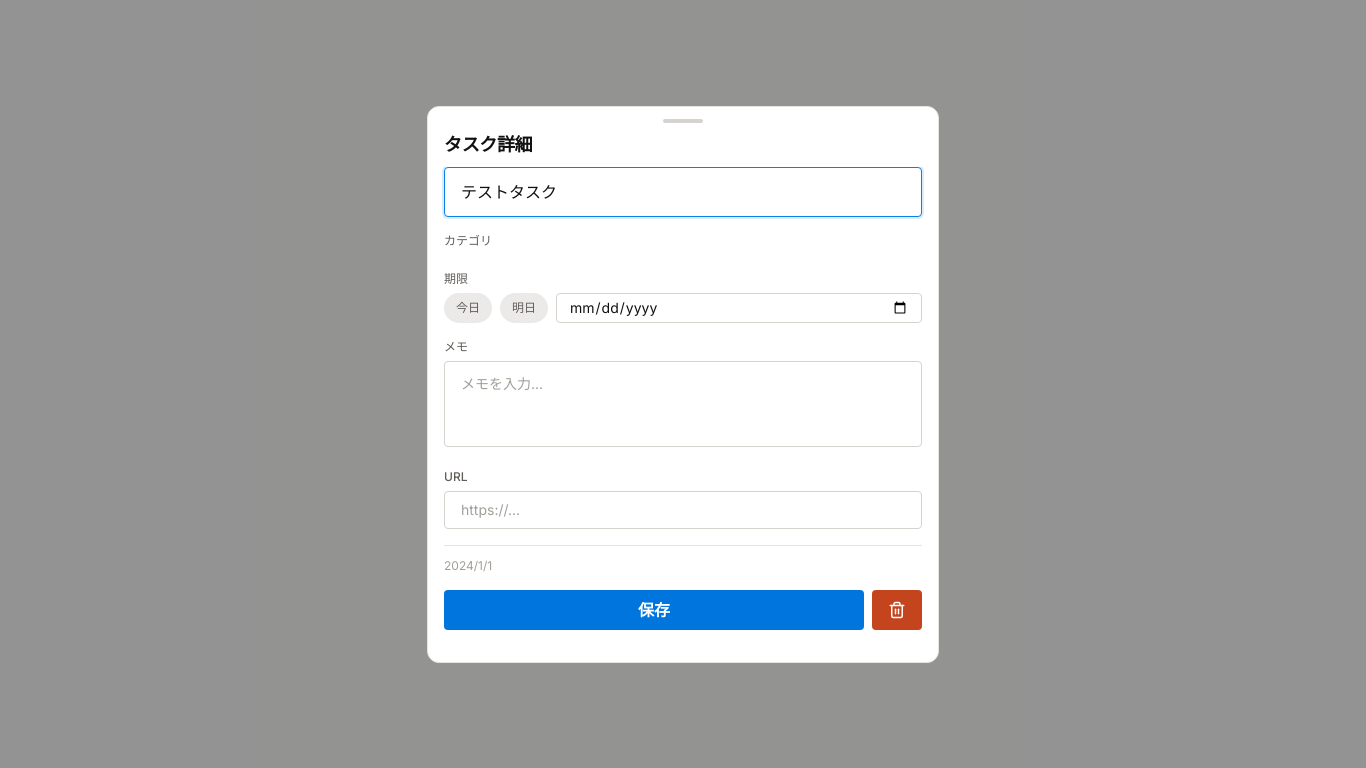
Test: TaskDetailModal › URLバリデーション › 無効なURL (スキームなし) では保存時にエラーメッセージが表示される
Type "example.com" into the field with placeholder "https://..." at (683, 510), box 444,490 -> 922,528
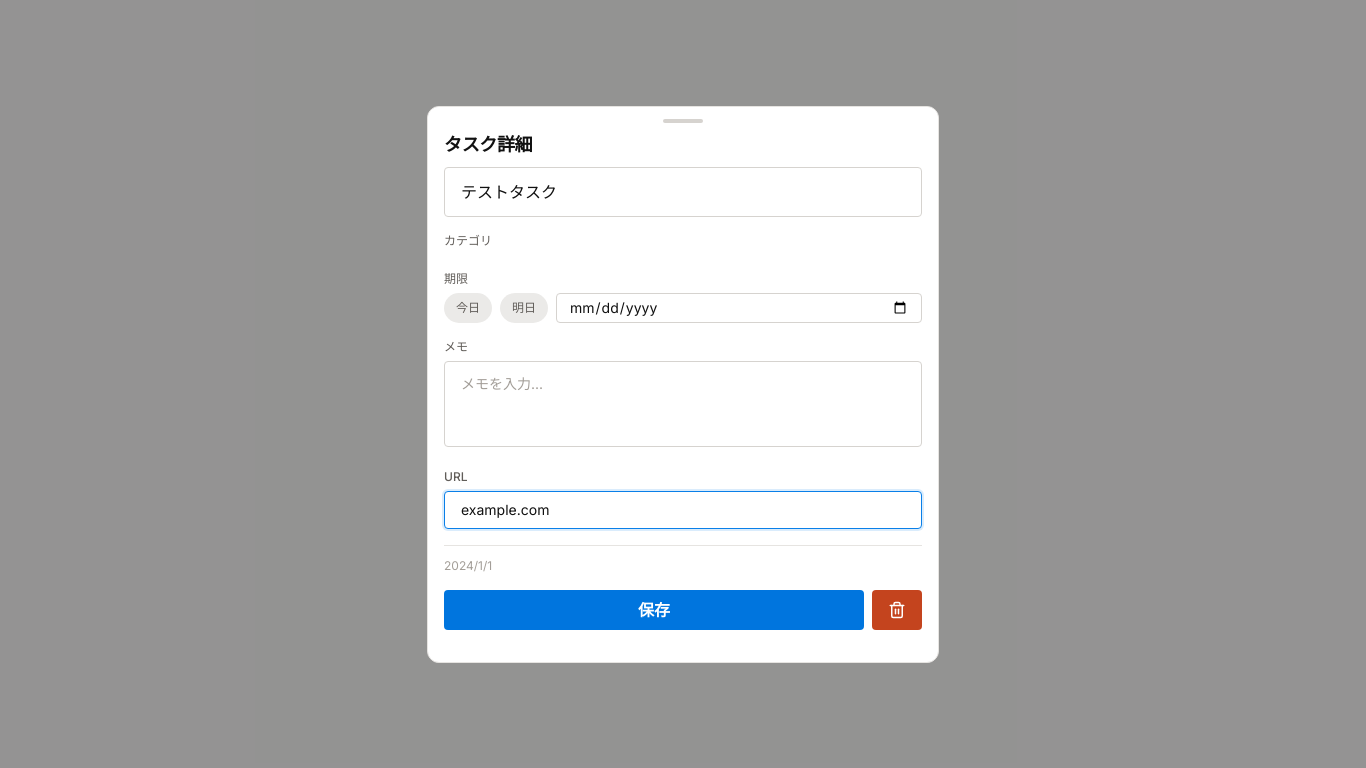
Click the button "保存" at (654, 610), box 444,590 -> 864,630
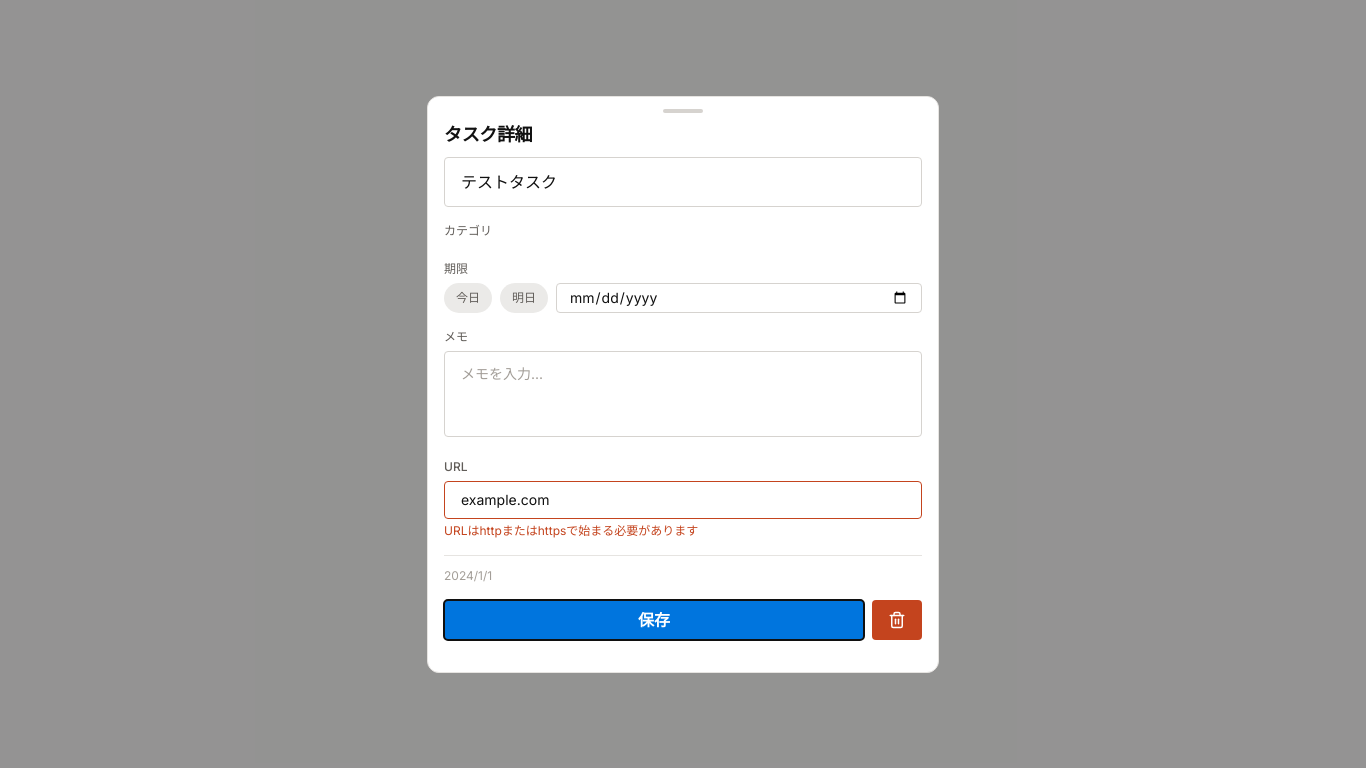
Expected: the text "URLはhttpまたはhttpsで始まる必要があります" is shown, 444,522 -> 698,538
